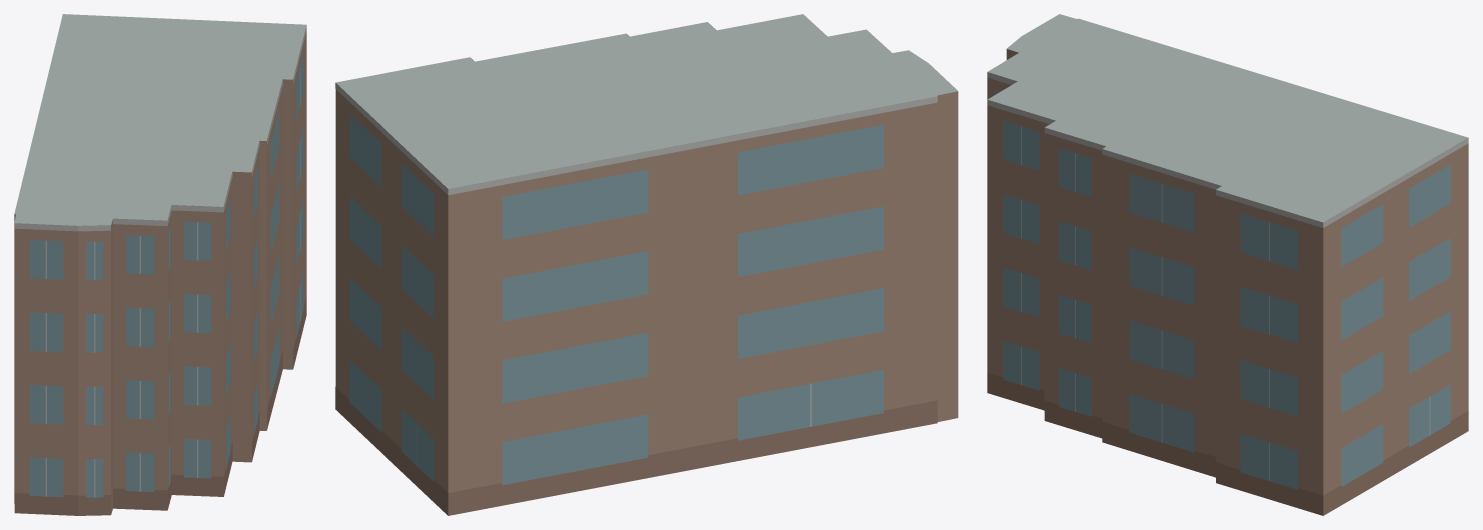
File: survey-upis-32656800.glb
3 views of the same model, side by side, from view 1: azimuth 30°, elevation 25°; view 2: azimuth 150°, elevation 25°; view 3: azimuth 270°, elevation 25° (orthographic). The views are drawn at different scales.
Parts seen in each view (by area): view 1: survey-upis-32656800.tmp; view 2: survey-upis-32656800.tmp; view 3: survey-upis-32656800.tmp.
Boxes of the visible parts, box(x1,y1,x2,y2) form: survey-upis-32656800.tmp: box(14, 14, 306, 515); survey-upis-32656800.tmp: box(335, 14, 958, 515); survey-upis-32656800.tmp: box(987, 14, 1468, 515).
Bounding box in the file's own units: 19.58 × 12.84 × 19.1.
